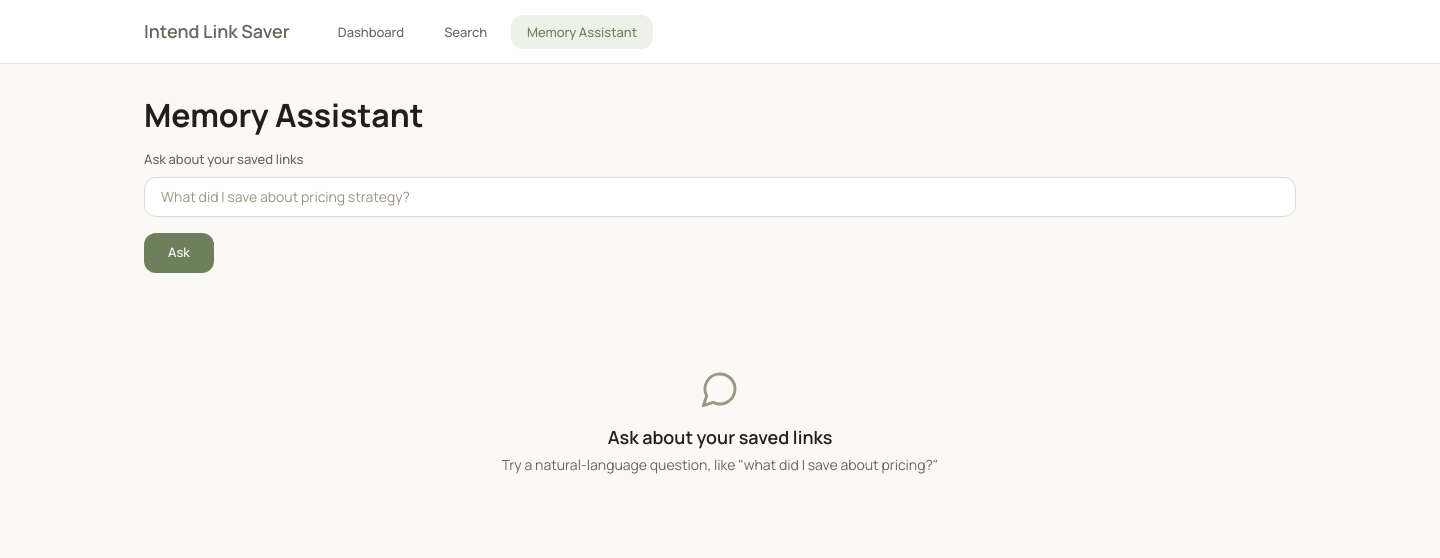
MemoryAssistantPage › asks, then displays the answer and cited links
The image size is (1440, 558).
Type "what did I save about pricing?" into the field labelled "Ask about your saved links" at (720,197), box 144,177 -> 1296,217
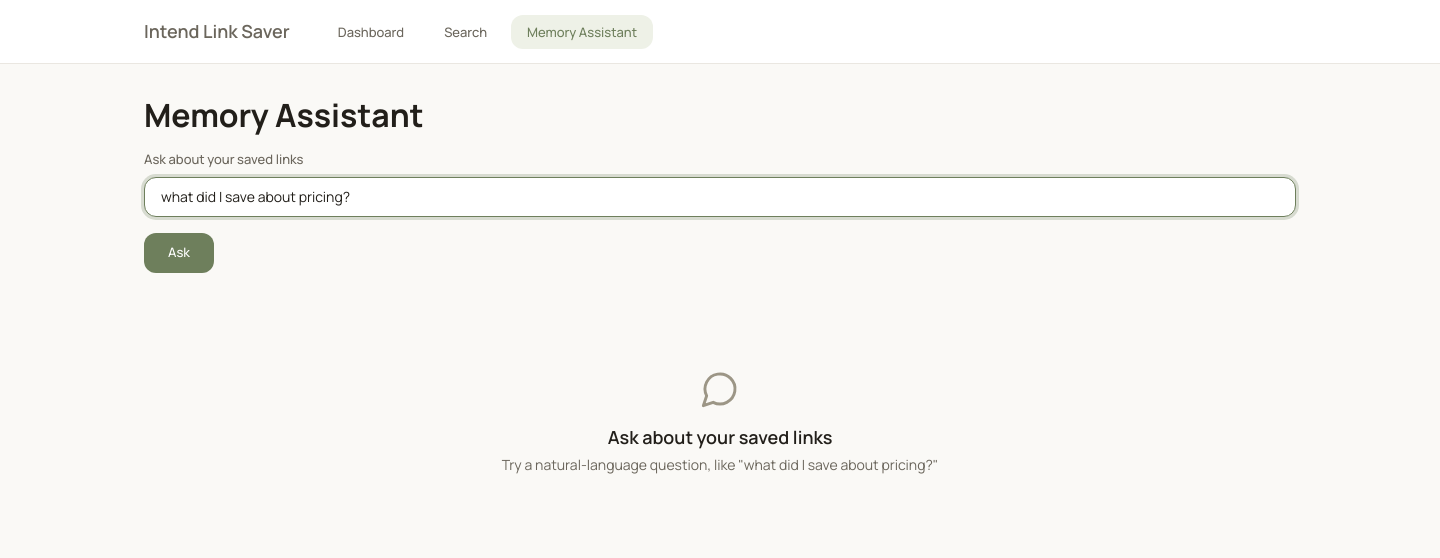
Click the button "Ask" at (179,253), box 144,233 -> 214,273
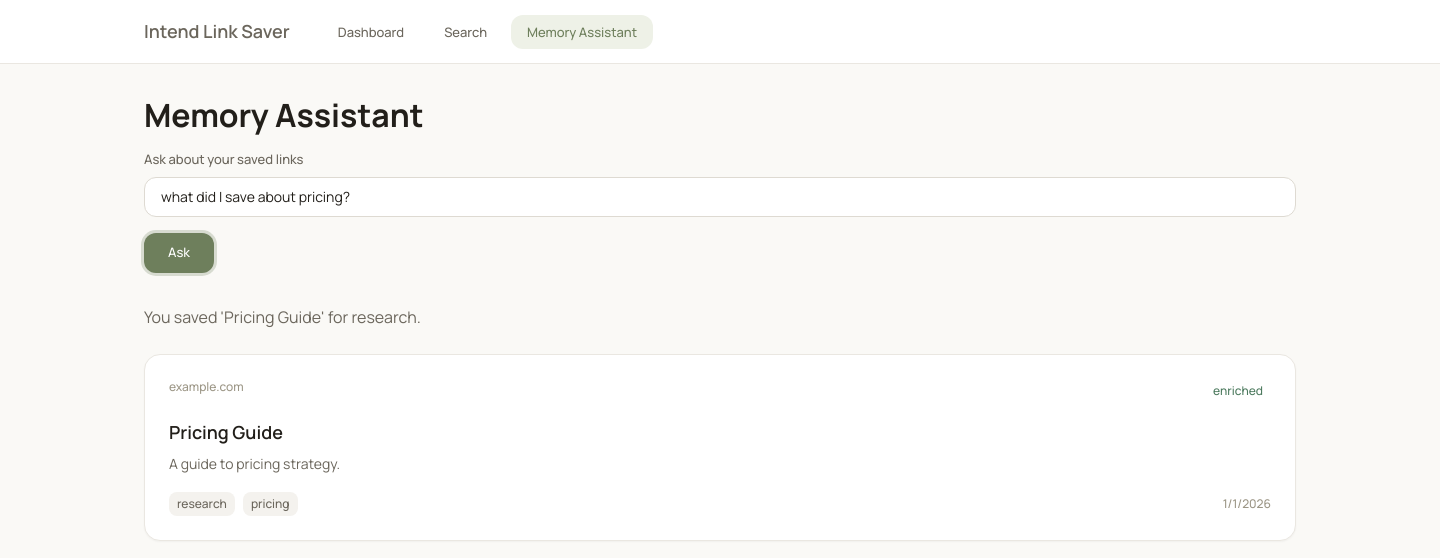
Now the text "You saved 'Pricing Guide' for research." is shown, box 144,306 -> 421,328
Now the heading "Pricing Guide" is shown, box 169,420 -> 283,444
